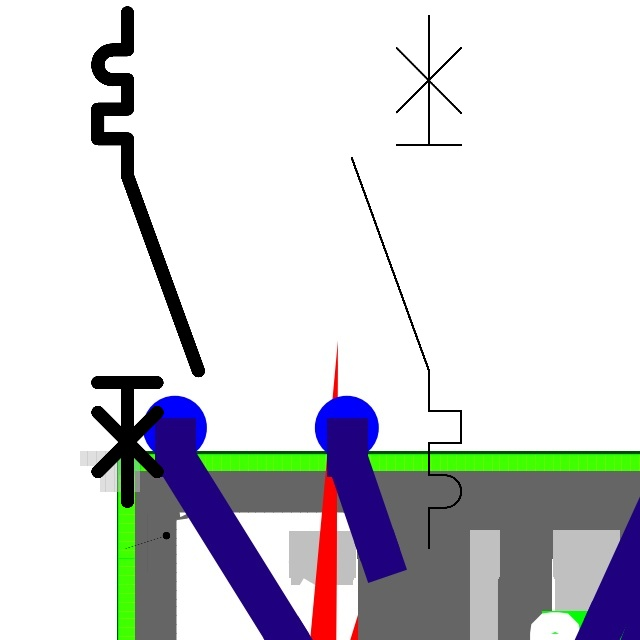interruptor_termomagnetico: (338, 2, 475, 562), (85, 0, 210, 513)
